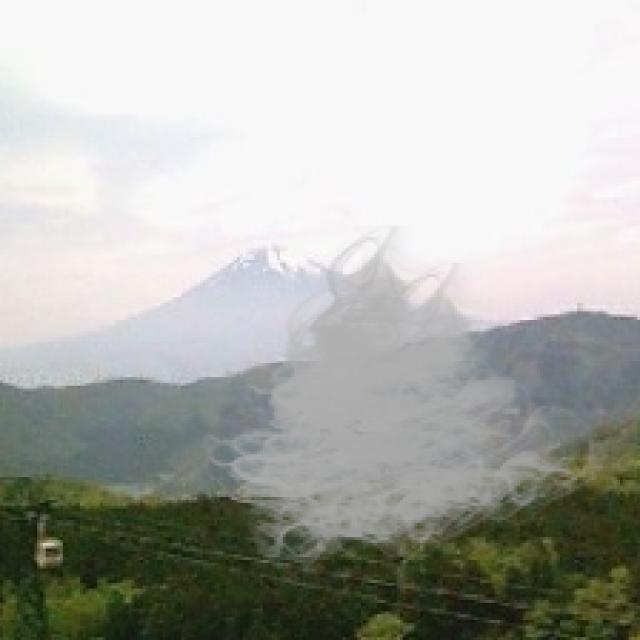Smoke: (192, 226, 612, 583)
